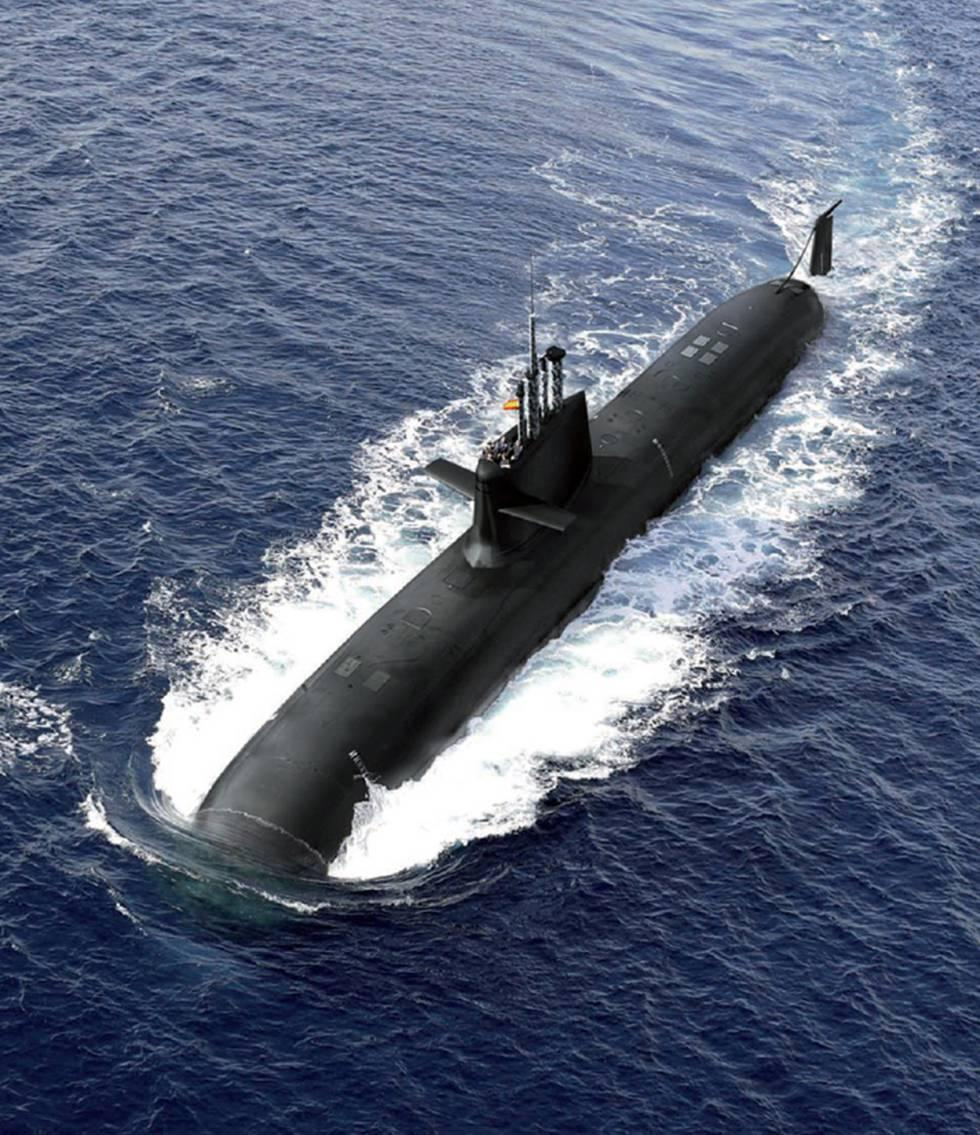Submarine: (80, 18, 942, 1100)
